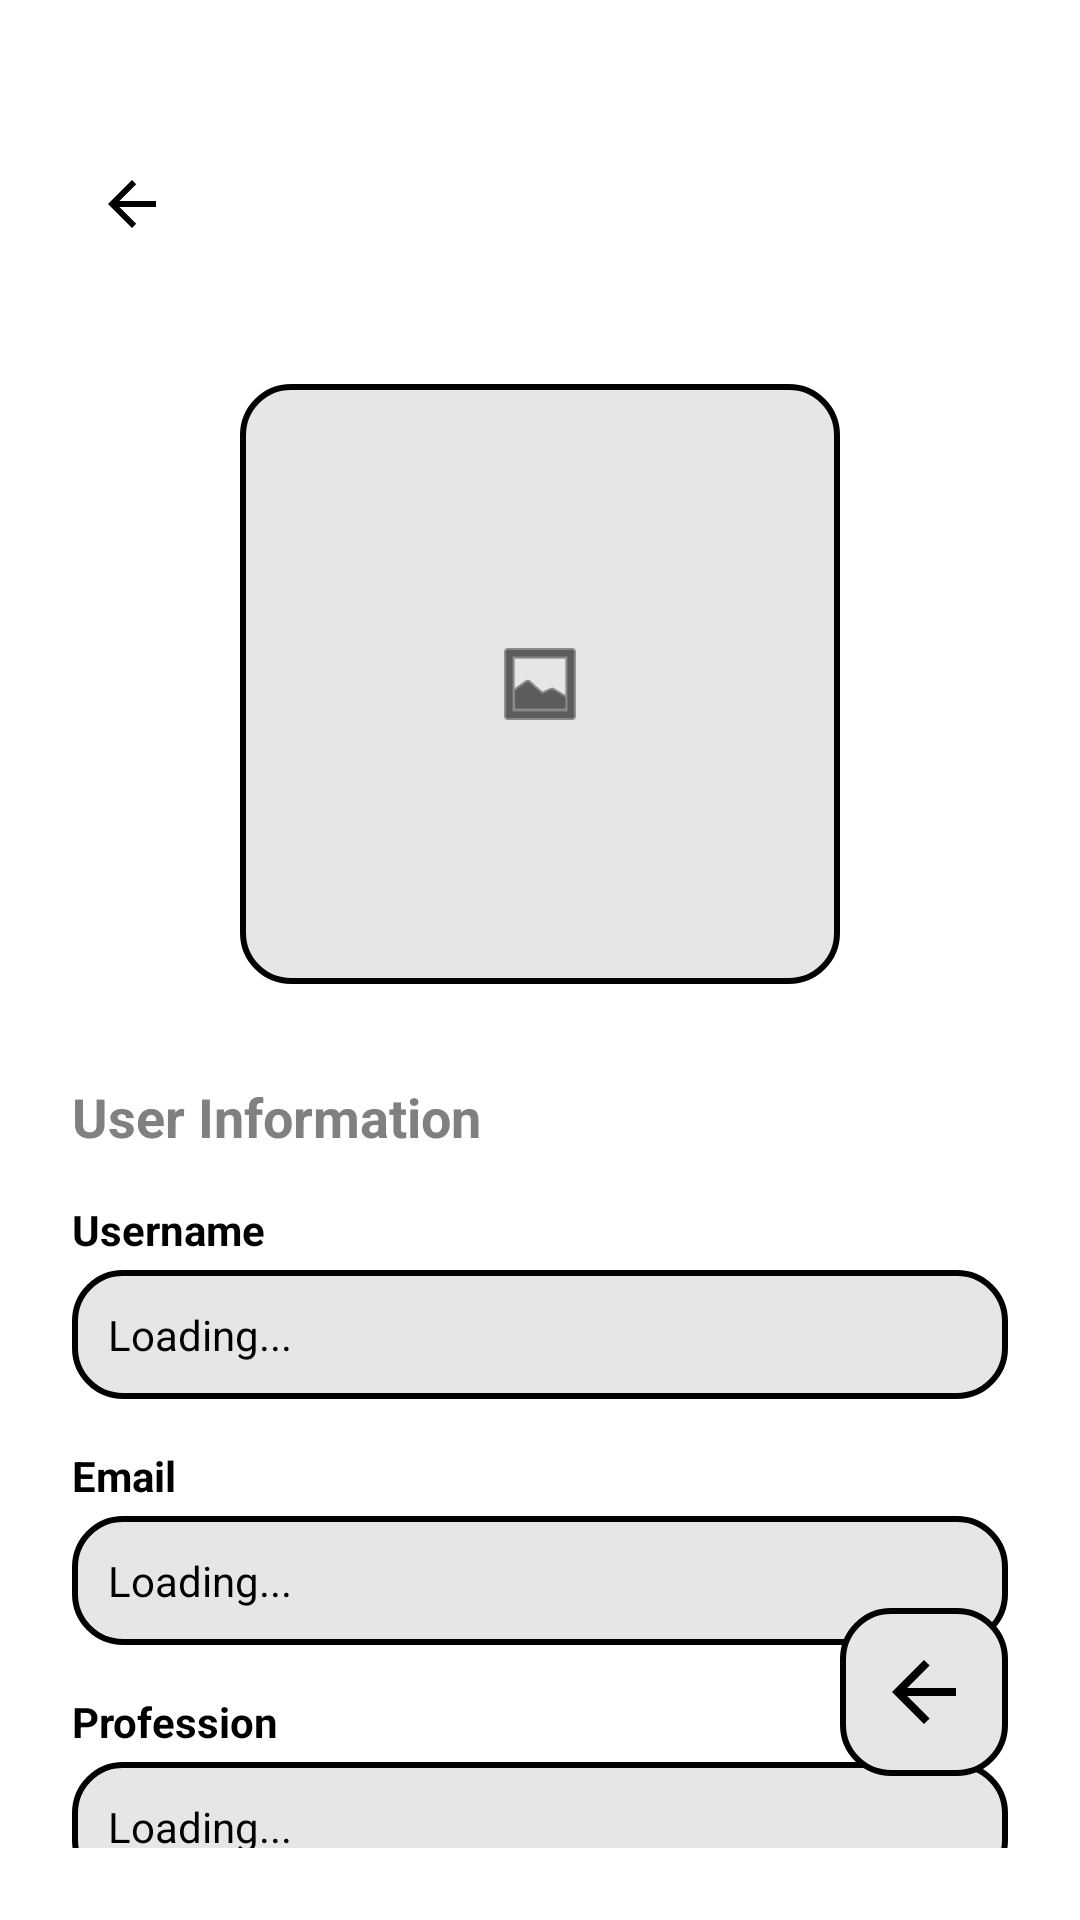

Where to tap for icons on this 1080w x 1920h app screen, as point (x, y):
ab back: point (132, 204), point (924, 1692)
